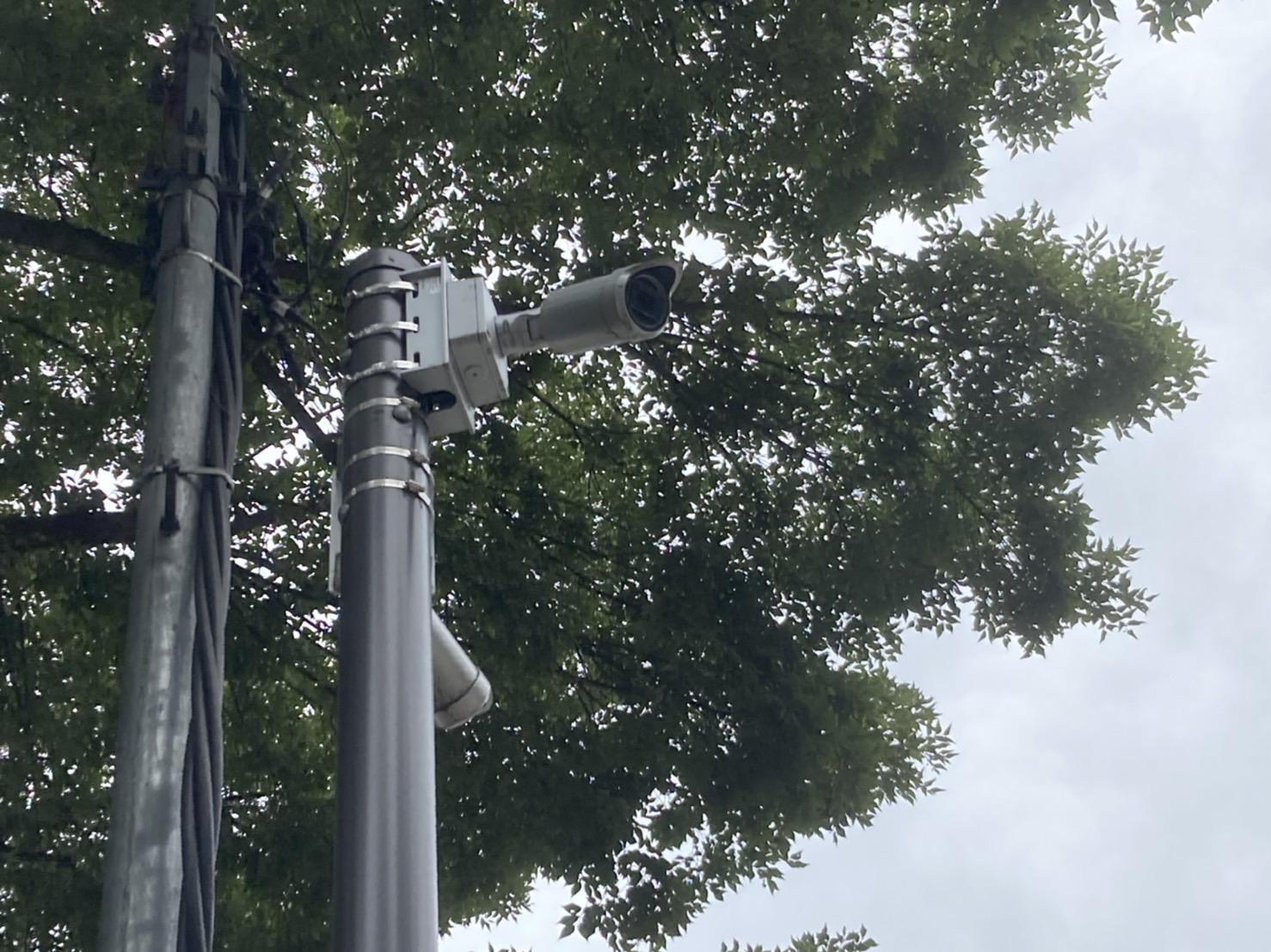tutu: (530, 241, 688, 369)
